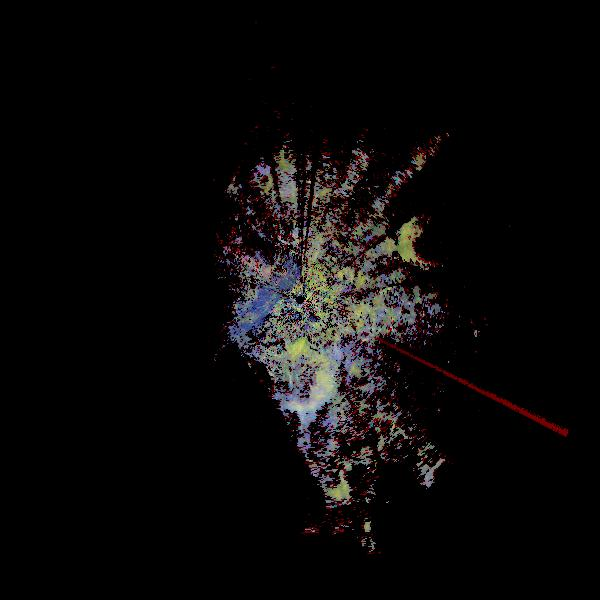roost: (240, 309, 375, 444), (375, 189, 483, 297)
